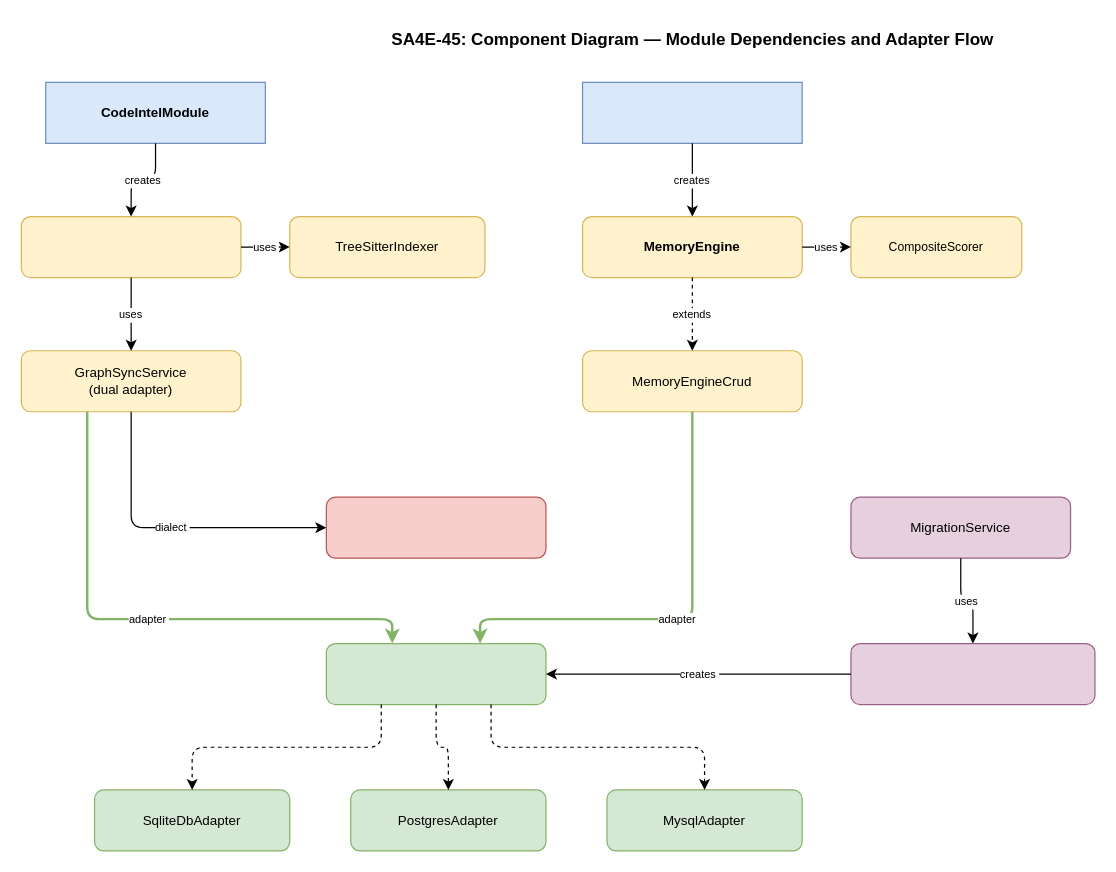
Image size: 1116x872. Some labels were removed from this diagram. The centre of each missing label's shape, as x and y in pixels:
"DatabaseAdapter (interface)" belongs at (x=435, y=673).
"DatabaseAdapterFactory" belongs at (x=972, y=673).
"DialectHelper" belongs at (x=435, y=527).
"IndexingEngine" belongs at (x=130, y=246).
"MemoryModule" belongs at (x=691, y=112).
